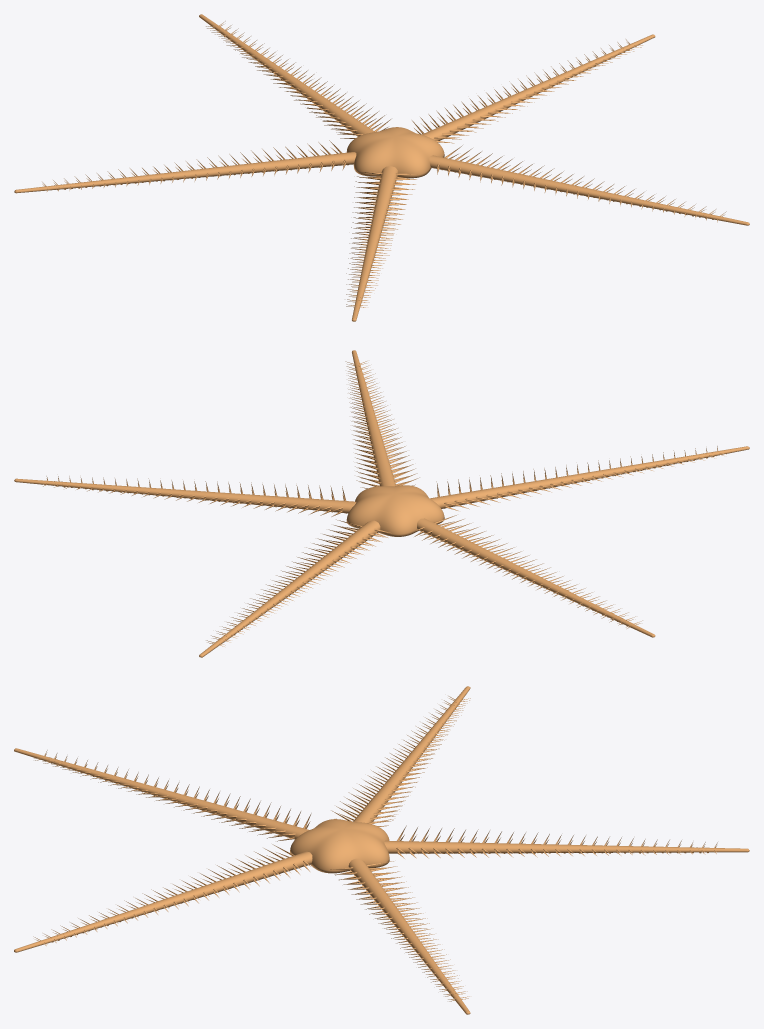
The model's file is starfish_brittle.glb.
3 renders of one model, top to bottom at view 1: azimuth 30°, elevation 25°; view 2: azimuth 150°, elevation 25°; view 3: azimuth 270°, elevation 25°, orthographic. The views are drawn at different scales.
Parts seen in each view (by area): view 1: starfish_brittle; view 2: starfish_brittle; view 3: starfish_brittle.
Part boxes in pixels (x1,y1,x2,y2): starfish_brittle: (14,14,749,321); starfish_brittle: (14,350,749,657); starfish_brittle: (14,686,749,1014).
Size of the model in its own units: 0.1902 by 0.00653 by 0.1809.
